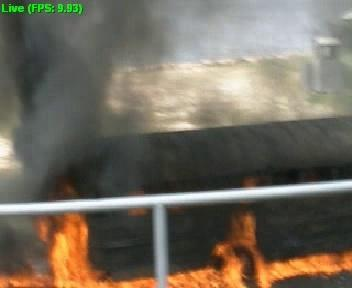fire: (52, 216, 88, 281), (222, 232, 259, 288)
smoke: (13, 19, 102, 166)
